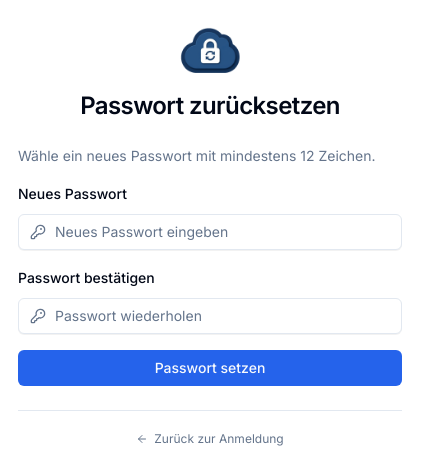
it: PasswordResetPage — confirm form (with token) › rejects mismatched passwords
Type "aaaaaaaaaaaa" into the password field labelled "Neues Passwort".
click(210, 232); type("aaaaaaaaaaaa")  # box [18,214,402,250]
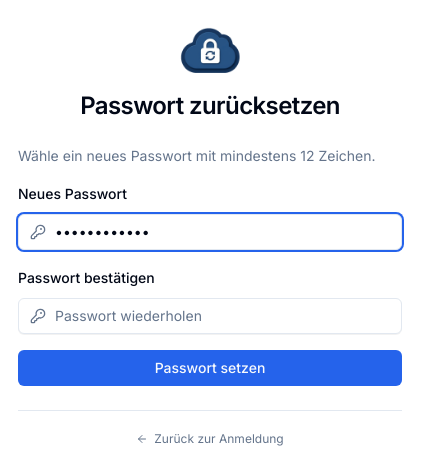
Type "bbbbbbbbbbbb" into the password field labelled "Passwort bestätigen".
click(210, 316); type("bbbbbbbbbbbb")  # box [18,298,402,334]
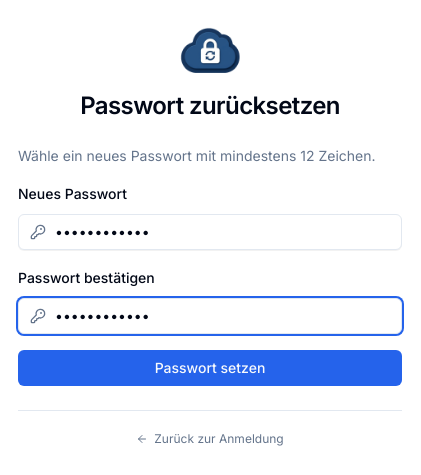
Click the button "Passwort setzen".
click(210, 368)  # box [18,350,402,386]
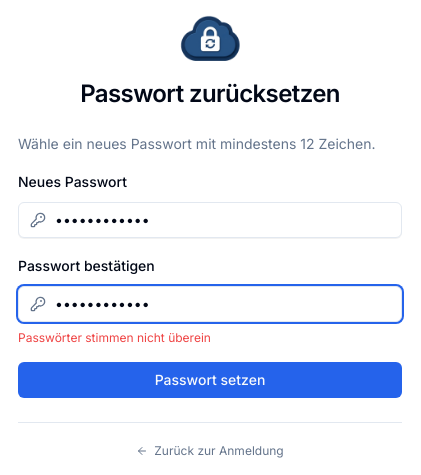
Expected: the text "Passwörter stimmen nicht überein" is shown, [18,330,211,344]
